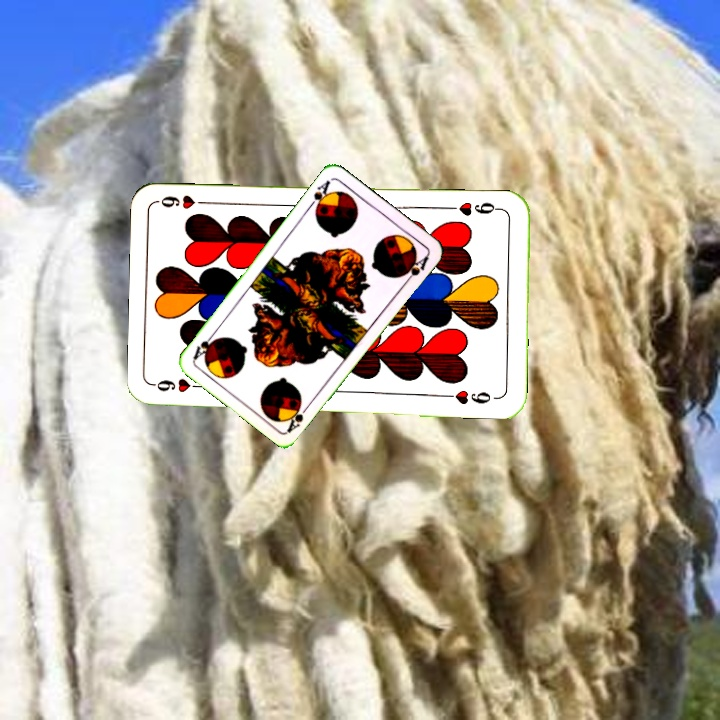H9: (446, 198, 505, 219), (152, 376, 211, 395)
SA: (304, 176, 333, 215), (283, 399, 313, 434)
